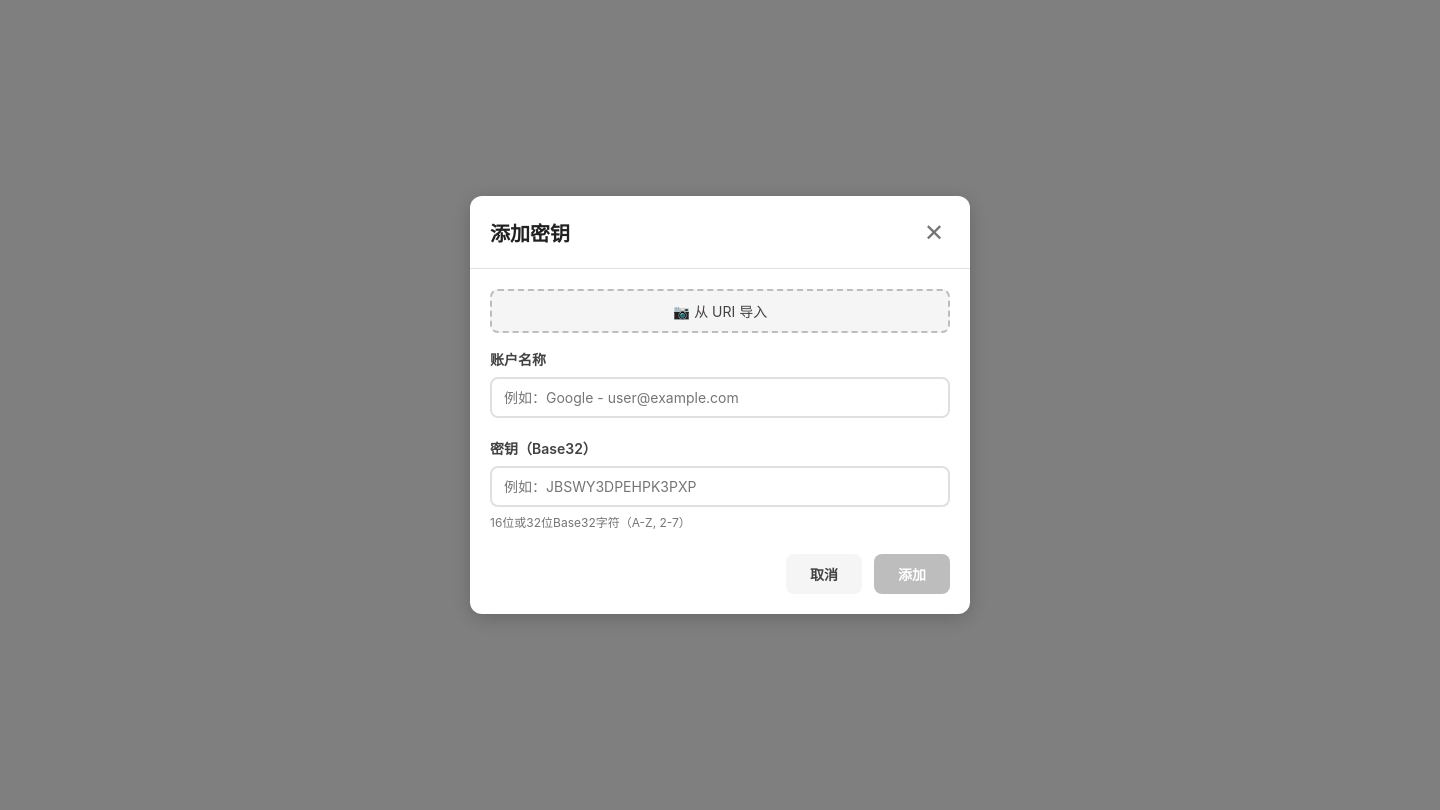
TokenForm › URI import › should parse URI and fill form fields
Click the button with class "btn-import": [720, 311] box x1=490 y1=289 x2=950 y2=333
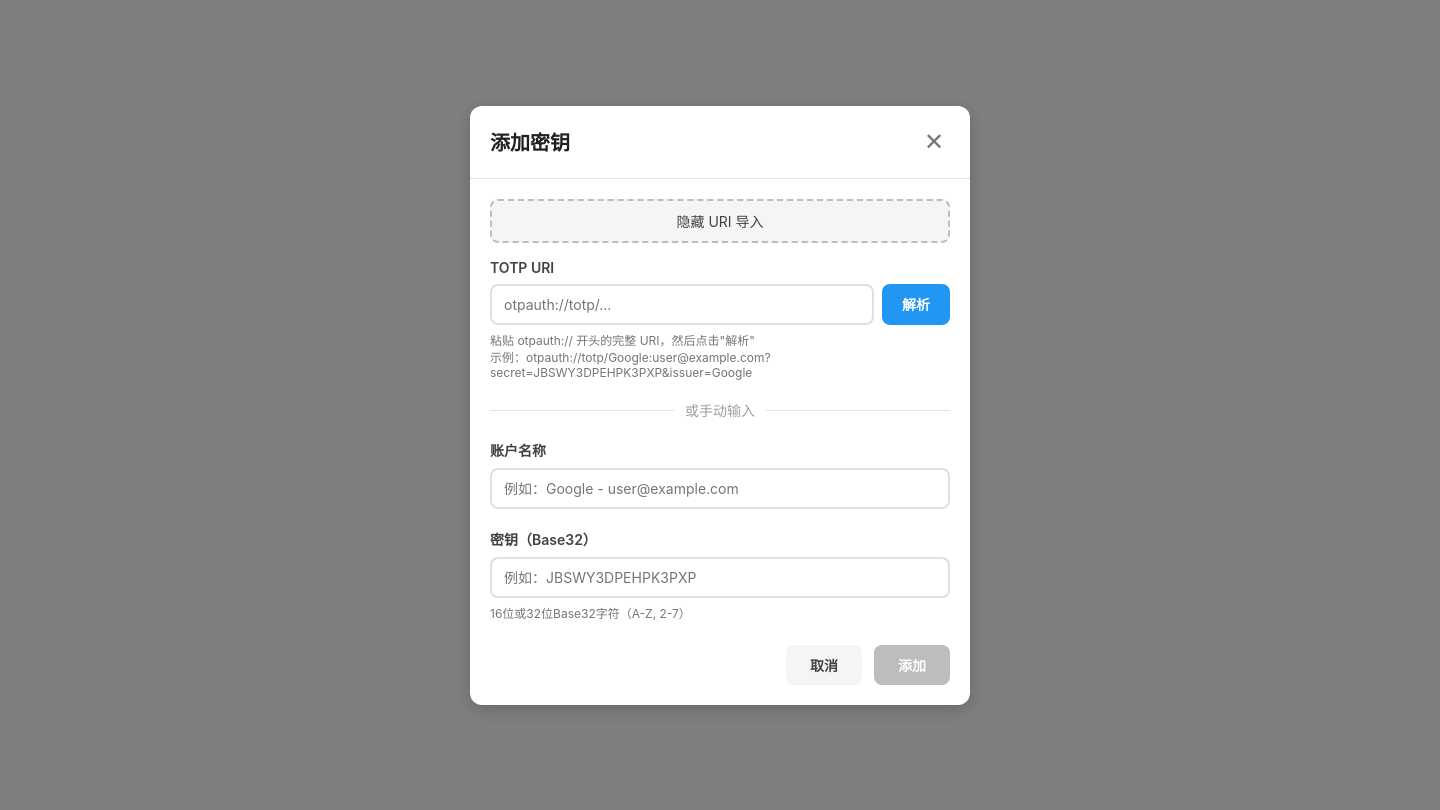
In the field with id "uri": [682, 304] box x1=490 y1=284 x2=874 y2=324, type "otpauth://totp/Test:user@example.com?secret=JBSWY3DPEHPK3PXP"
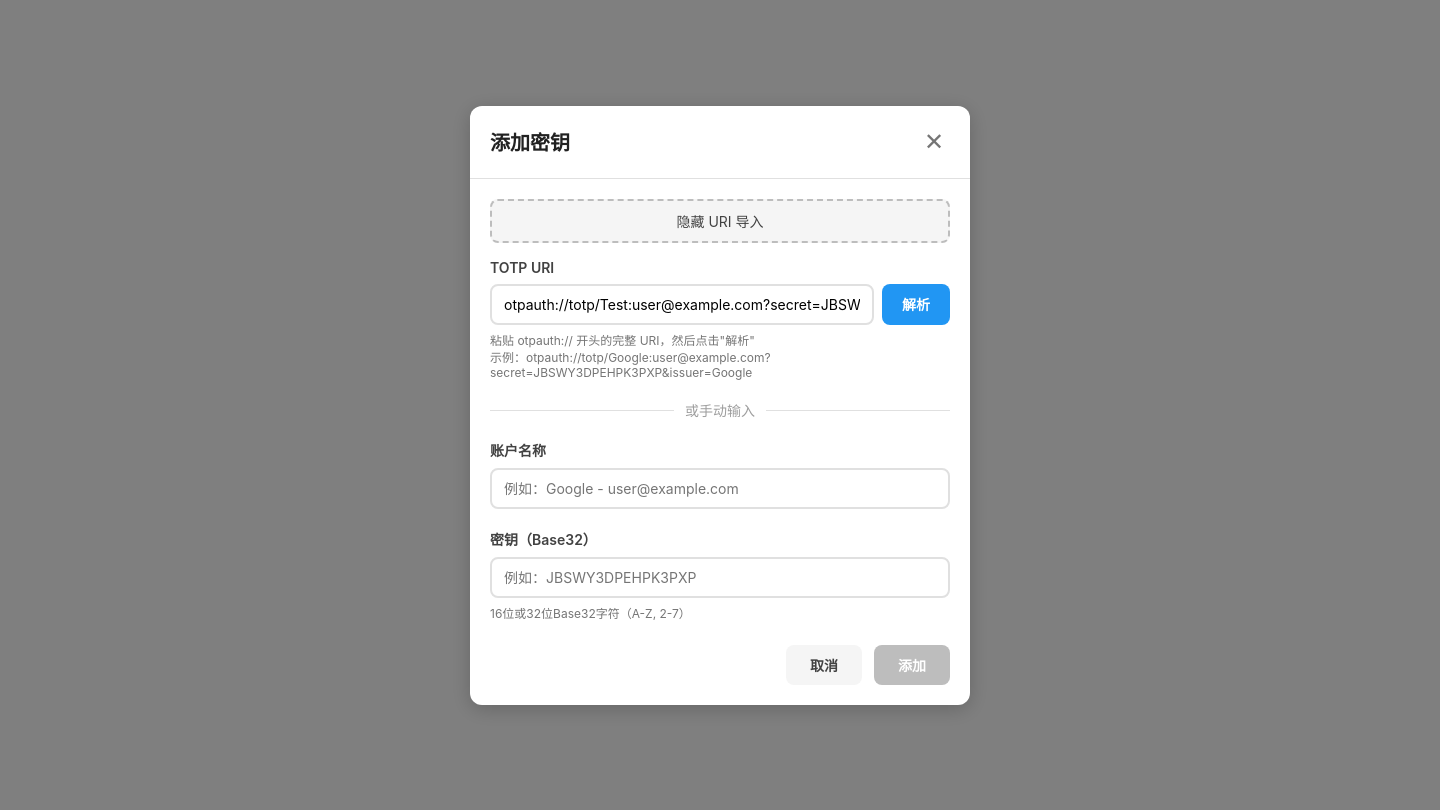
Click the button with class "btn-parse": [916, 304] box x1=882 y1=284 x2=950 y2=324
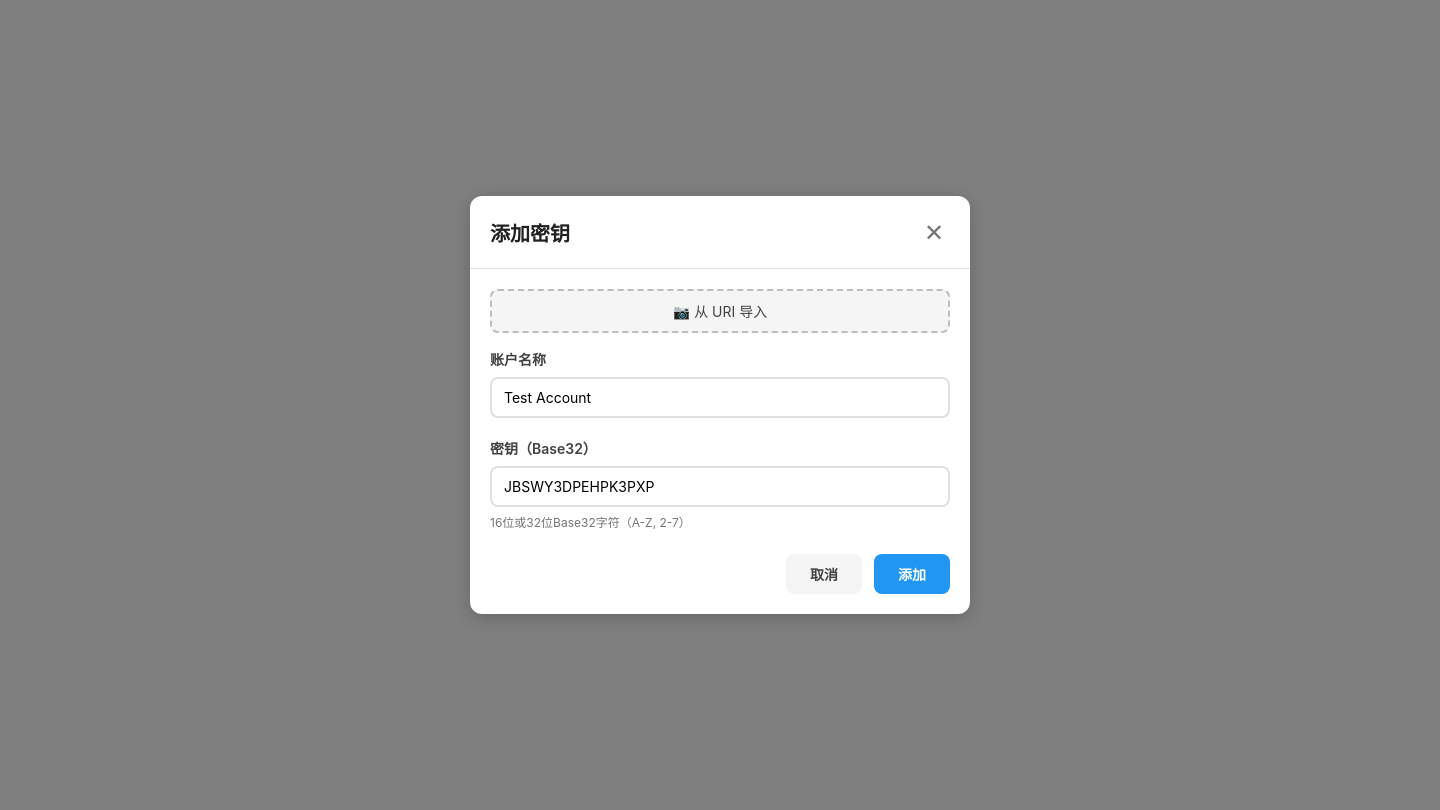
Check: the field with id "name" holds "Test Account", box x1=490 y1=377 x2=950 y2=418
Check: the field with id "secret" holds "JBSWY3DPEHPK3PXP", box x1=490 y1=466 x2=950 y2=507
